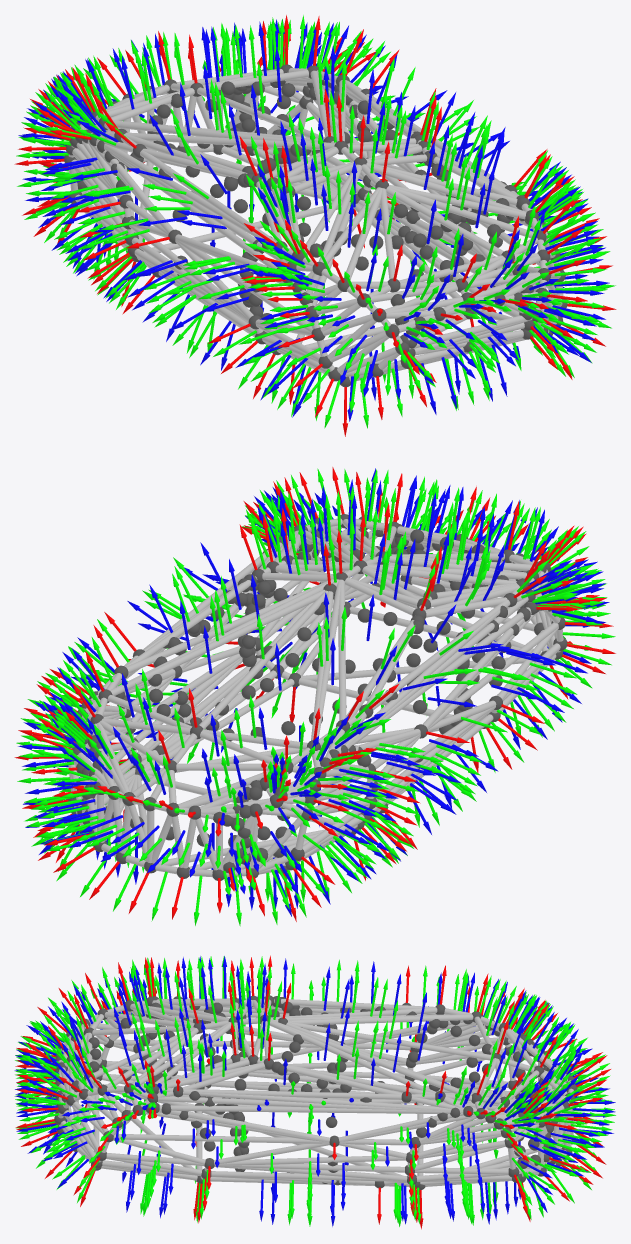
File: ils_roadster.gltf
3 views of the same model, one above another, from view 1: azimuth 30°, elevation 25°; view 2: azimuth 150°, elevation 25°; view 3: azimuth 270°, elevation 25° (orthographic). The views are drawn at different scales.
Size of the model in its own units: 0.5549 by 0.3935 by 1.05.
